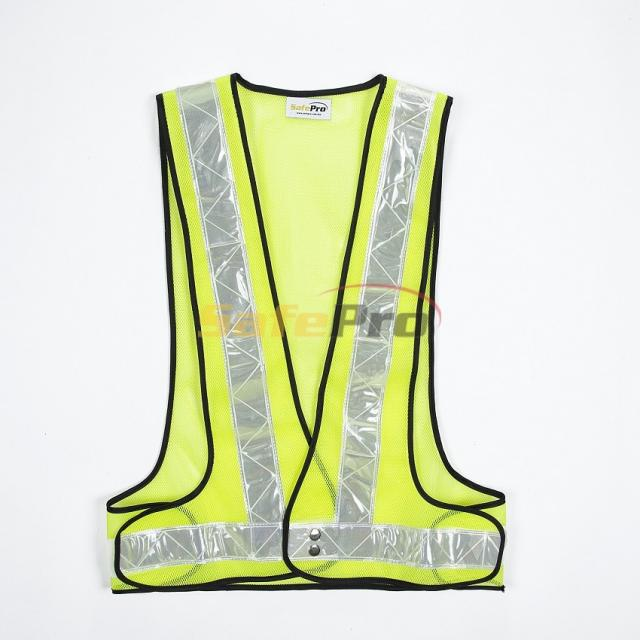Reflective-Jacket: (60, 57, 552, 609)
